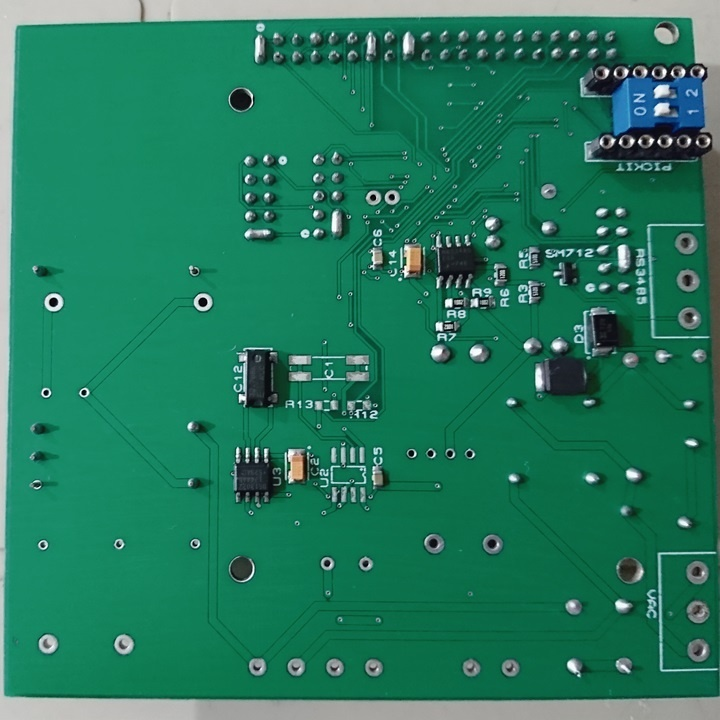F: (673, 267, 703, 295), (110, 629, 137, 659), (684, 558, 711, 587), (676, 304, 703, 333), (673, 226, 698, 255), (361, 655, 387, 682), (34, 632, 62, 657), (685, 637, 710, 664), (421, 531, 446, 557), (614, 653, 638, 680), (478, 532, 504, 556), (687, 601, 710, 628), (245, 654, 269, 679), (459, 656, 484, 680), (562, 595, 584, 621), (284, 656, 309, 678), (499, 656, 521, 681), (44, 291, 66, 315), (653, 347, 677, 369), (192, 292, 214, 314), (323, 657, 345, 678), (539, 180, 559, 203), (381, 188, 401, 208), (184, 260, 202, 282), (621, 352, 640, 372), (355, 556, 375, 574), (690, 348, 710, 366), (364, 189, 382, 208), (319, 555, 336, 572), (461, 445, 477, 463), (111, 537, 126, 555), (27, 478, 44, 493), (443, 447, 458, 463), (187, 536, 201, 553), (36, 539, 50, 555), (77, 385, 91, 400), (424, 445, 437, 461), (40, 386, 53, 401), (405, 447, 418, 461)
P: (401, 27, 419, 66), (615, 241, 635, 276), (243, 226, 278, 244), (329, 203, 344, 243), (252, 32, 269, 67), (364, 28, 379, 66)
